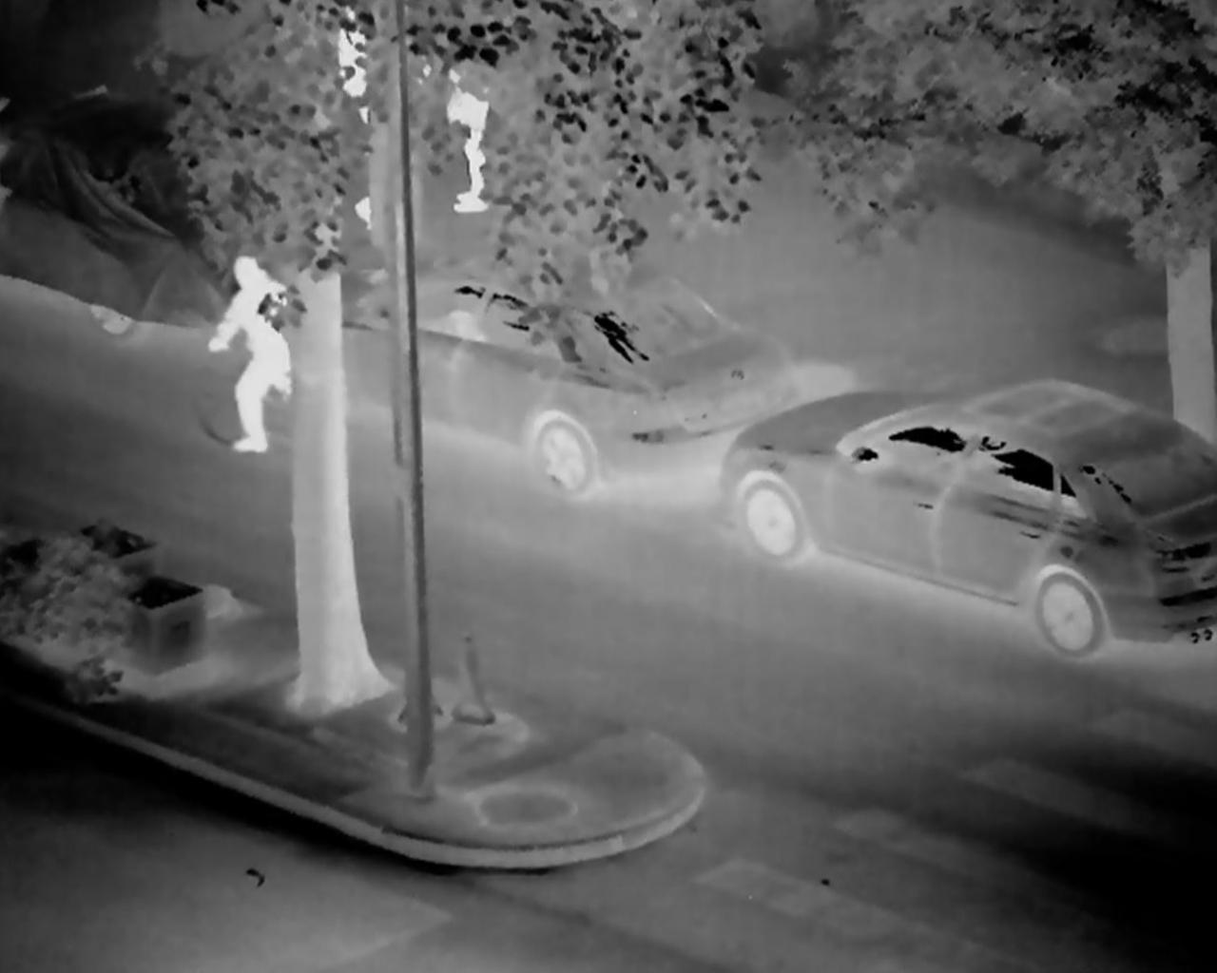person: (207, 247, 306, 466), (443, 48, 502, 212)
